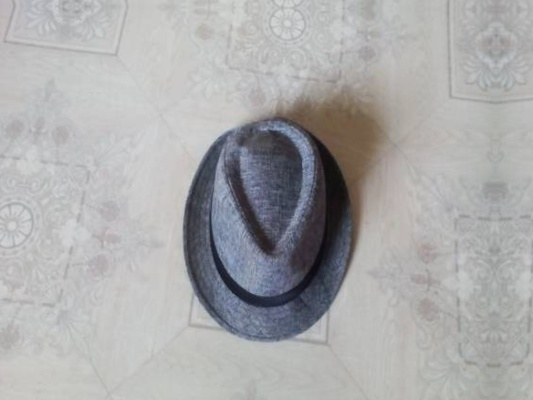Hat: (170, 97, 357, 353)
